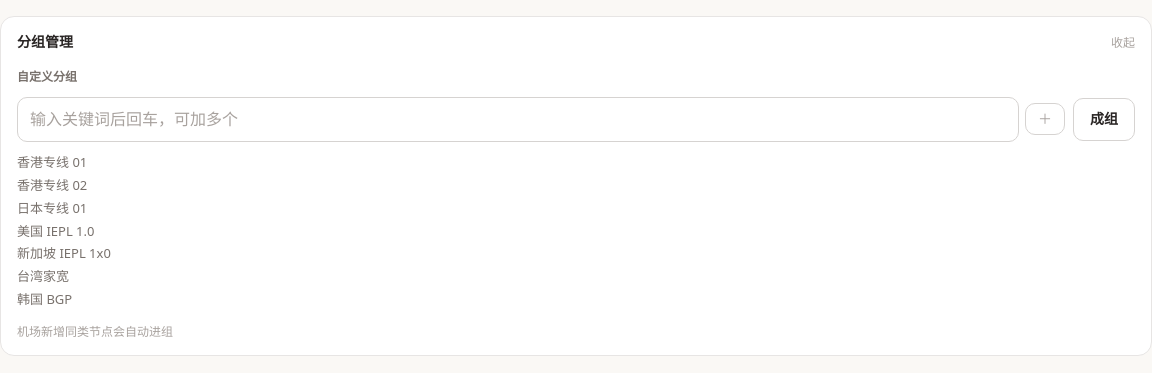
GroupPanel 打词匹配与防抖 › 字面量 substring：关键词「1.0」命中「IEPL 1.0」不吃「IEPL 1x0」（. 不当通配）
Type "1.0" into the field named "分组关键词" at (518, 119), box x1=17 y1=97 x2=1019 y2=142
Wait 250 ms
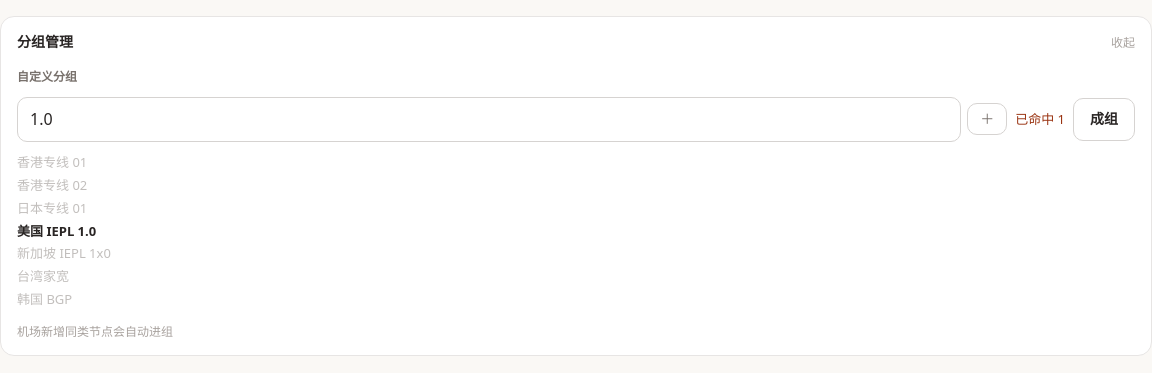
Result: the elements with class "hit" read "美国 IEPL 1.0", in this order at x1=17 y1=222 x2=96 y2=240
Result: the text "已命中 1" is shown at x1=1015 y1=109 x2=1065 y2=130
